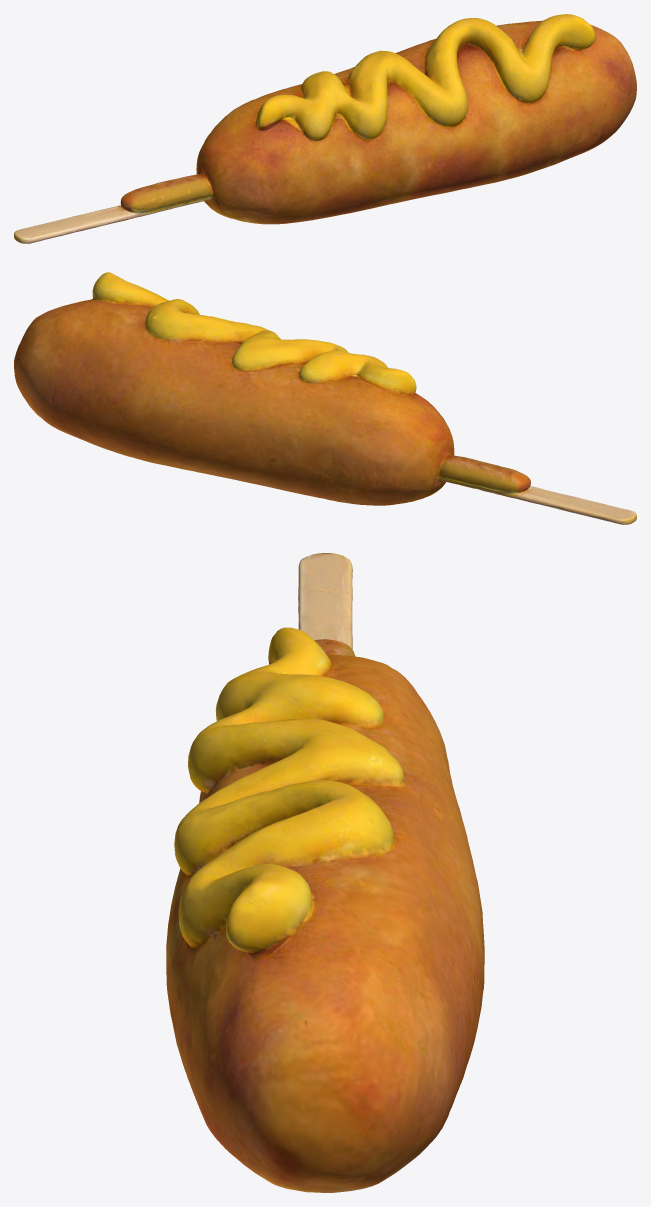
3 renders of one model, top to bottom at view 1: azimuth 30°, elevation 25°; view 2: azimuth 150°, elevation 25°; view 3: azimuth 270°, elevation 25°, orthographic. The views are drawn at different scales.
Bounding box in the file's own units: 1.9 × 0.4425 × 0.4285.
1 material, 1 textured.
